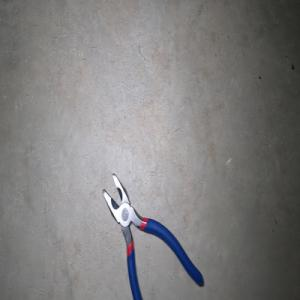Pliers: (101, 172, 204, 300)
